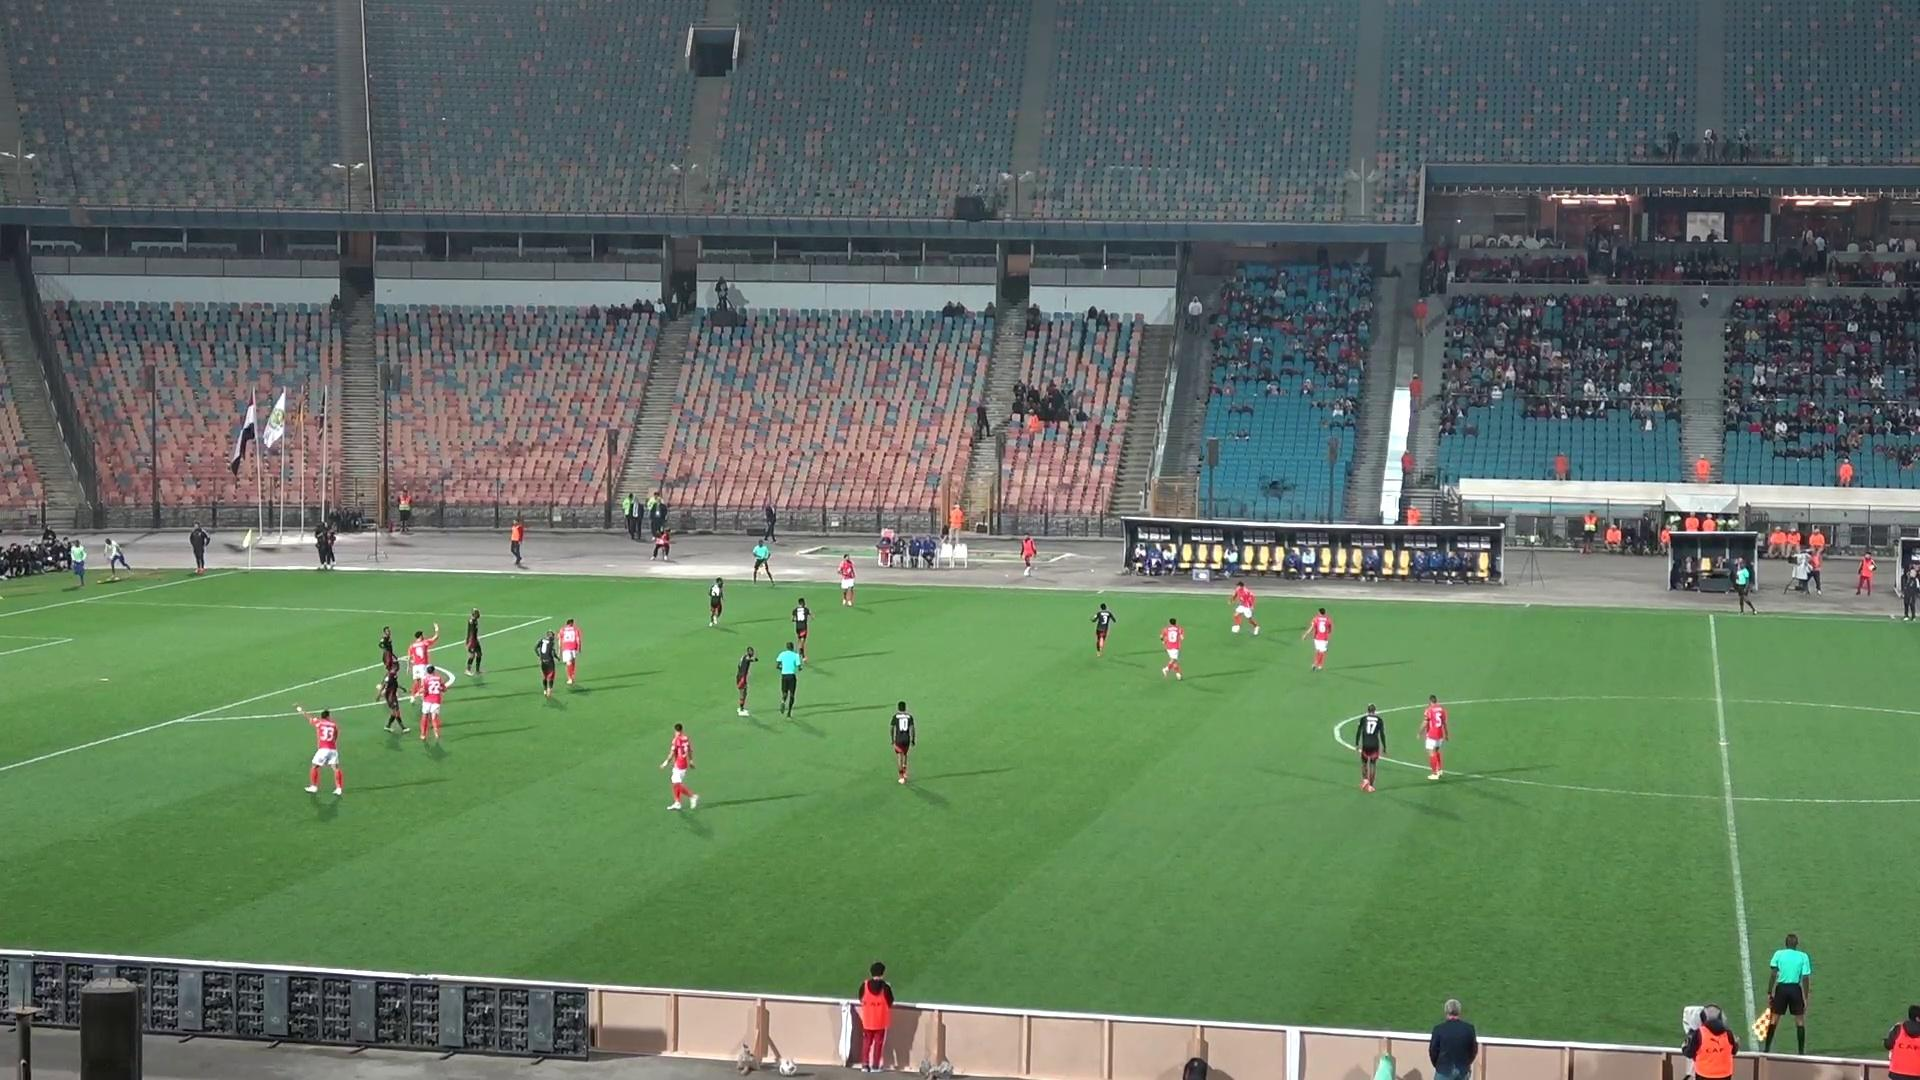Ball: (1230, 616, 1254, 637)
Refree: (1749, 932, 1811, 1054), (775, 641, 802, 716), (1725, 556, 1758, 611), (752, 538, 775, 582)
Team1: (301, 709, 344, 795), (413, 663, 454, 741), (662, 723, 698, 808), (1418, 696, 1448, 781), (407, 626, 439, 703), (550, 618, 582, 687), (1304, 608, 1333, 670), (1230, 580, 1259, 636), (1160, 617, 1184, 678), (837, 555, 856, 607)
Team2: (1352, 704, 1385, 793), (889, 702, 916, 785), (378, 626, 404, 709), (378, 669, 407, 732), (535, 629, 560, 698), (735, 646, 758, 717), (463, 608, 484, 676), (1091, 603, 1116, 655), (791, 597, 812, 651), (708, 578, 725, 625)
